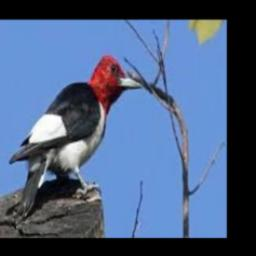Woodpecker: (10, 55, 143, 217)
